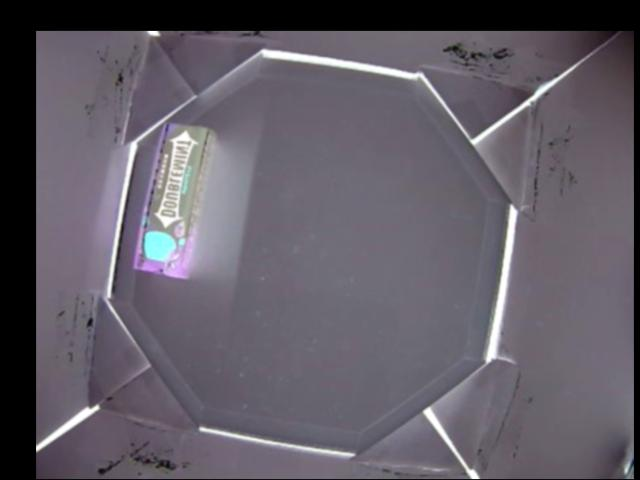Bottle: (131, 122, 217, 281)
